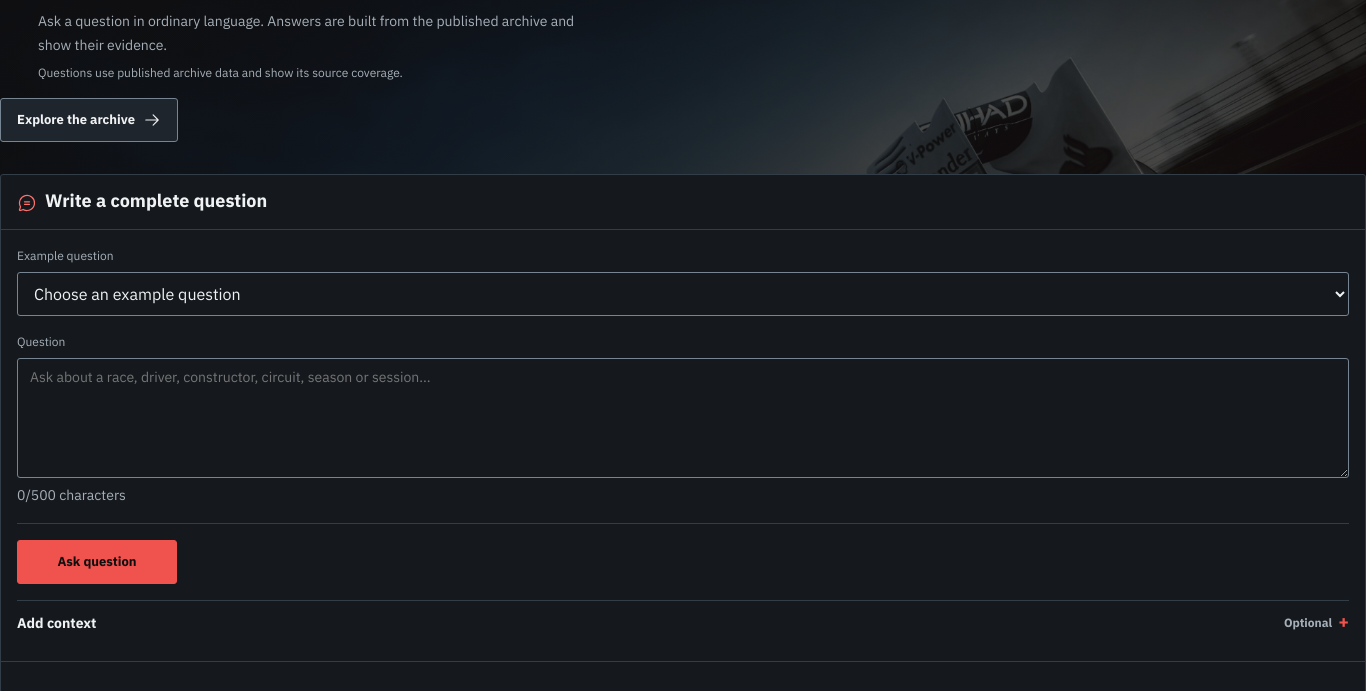
Test: request errors switch to the result view and can be cleared
Type "Which driver has the most wins?" into the text box labelled "Question" at [683, 418], box [17,358,1349,478]
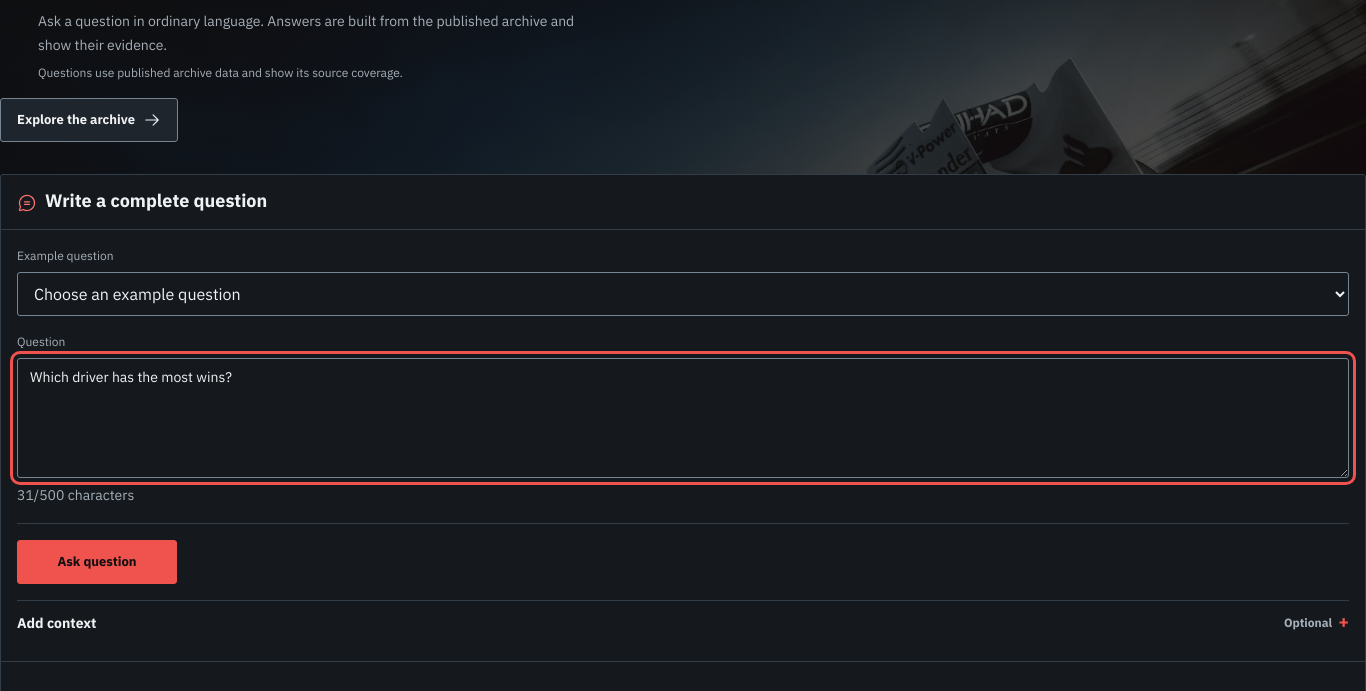
Click the button "Ask question" at [97, 562], box [17,540,177,584]
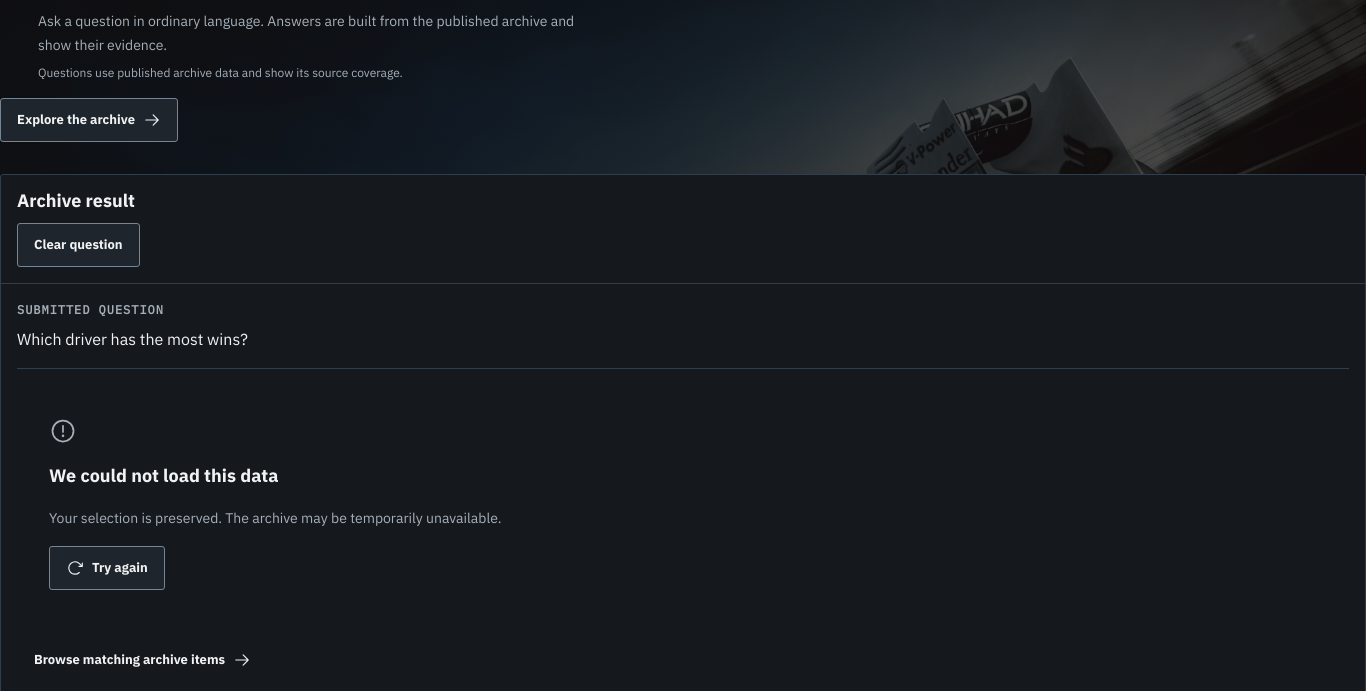
Expected: the heading "We could not load this data" is shown, [49,461,278,491]
Expected: the button "Clear question" is shown
Click the button "Clear question" at [78, 245], box [17,223,140,267]
(page scrolled)
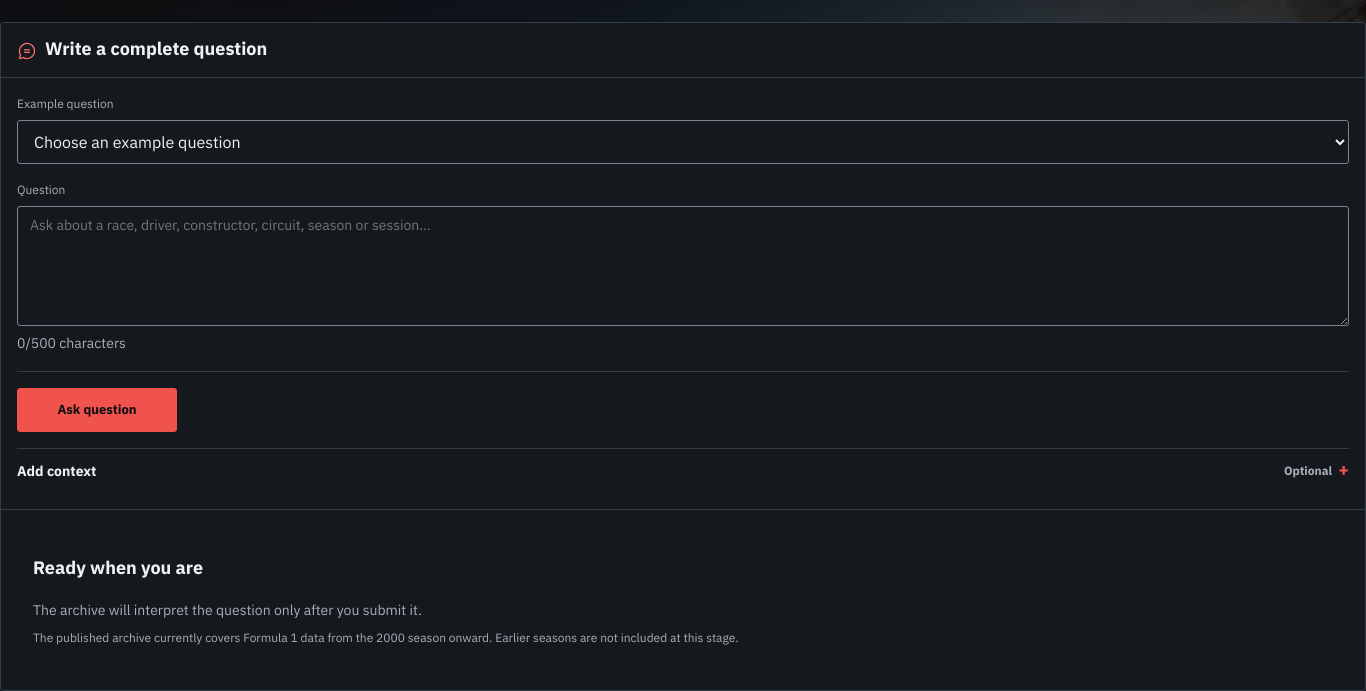
Expected: the heading "Ready when you are" is shown, [33,553,203,582]
